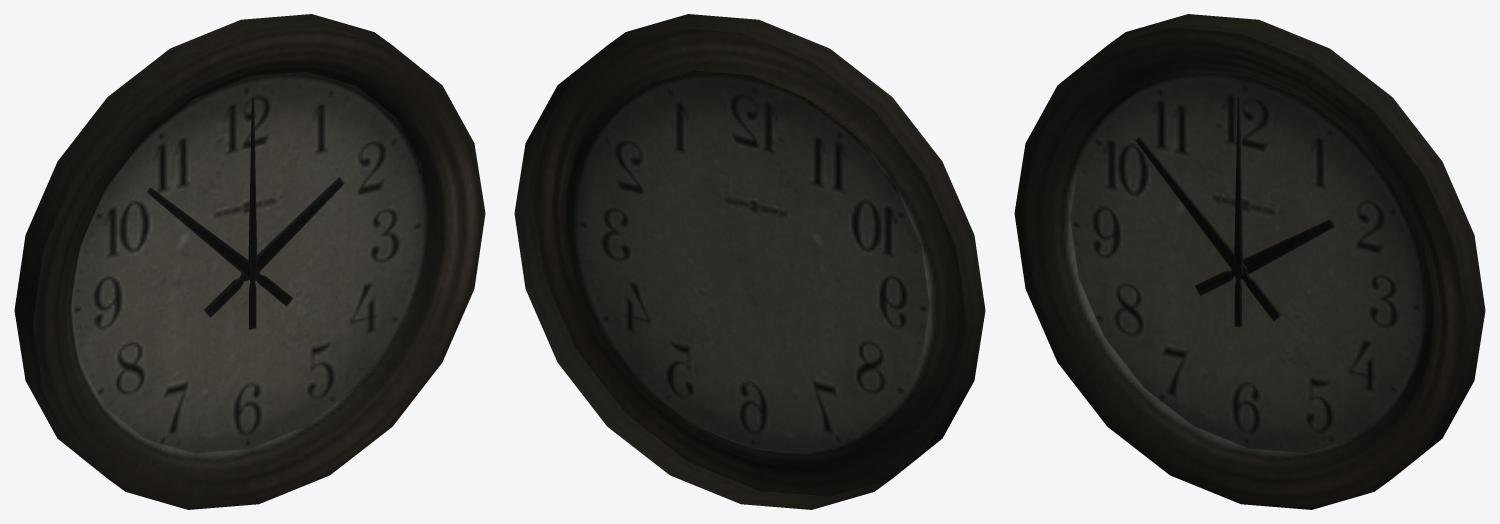
The model's file is clock_1.fbx.
3 views of the same model, side by side, from view 1: azimuth 30°, elevation 25°; view 2: azimuth 150°, elevation 25°; view 3: azimuth 330°, elevation 25° (orthographic).
Parts seen in each view (by area): view 1: clock_1, clock_1_arm_hours, clock_1_arm_minutes, clock_1_arm_seconds; view 2: clock_1; view 3: clock_1, clock_1_arm_minutes, clock_1_arm_hours, clock_1_arm_seconds.
Part boxes in pixels (x1=…): clock_1: x1=14, y1=14, x2=485, y2=509; clock_1_arm_hours: x1=204, y1=177, x2=344, y2=317; clock_1_arm_minutes: x1=147, y1=187, x2=292, y2=306; clock_1_arm_seconds: x1=248, y1=97, x2=257, y2=329; clock_1: x1=514, y1=14, x2=985, y2=509; clock_1: x1=1014, y1=14, x2=1485, y2=509; clock_1_arm_minutes: x1=1135, y1=136, x2=1281, y2=320; clock_1_arm_hours: x1=1194, y1=219, x2=1335, y2=295; clock_1_arm_seconds: x1=1234, y1=95, x2=1243, y2=327.
Bounding box in the file's own units: 0.4023 × 0.03 × 0.4.
